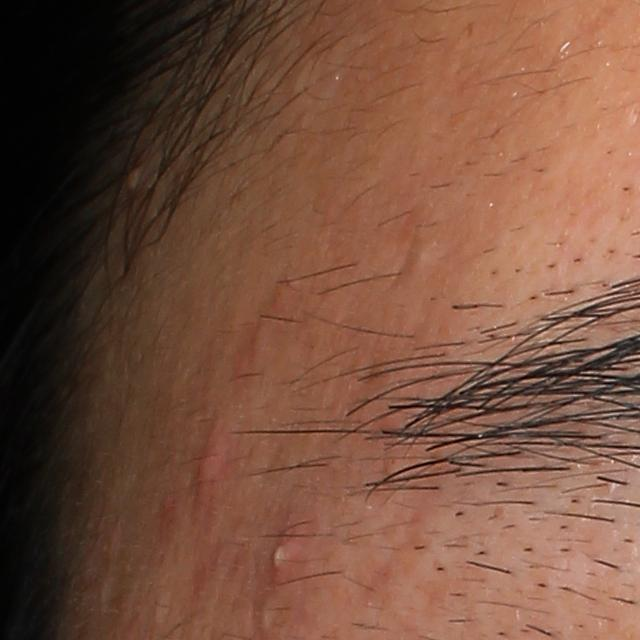comedo: (403, 243, 441, 273)
papule: (189, 423, 231, 506)
pustule: (263, 521, 310, 589)
